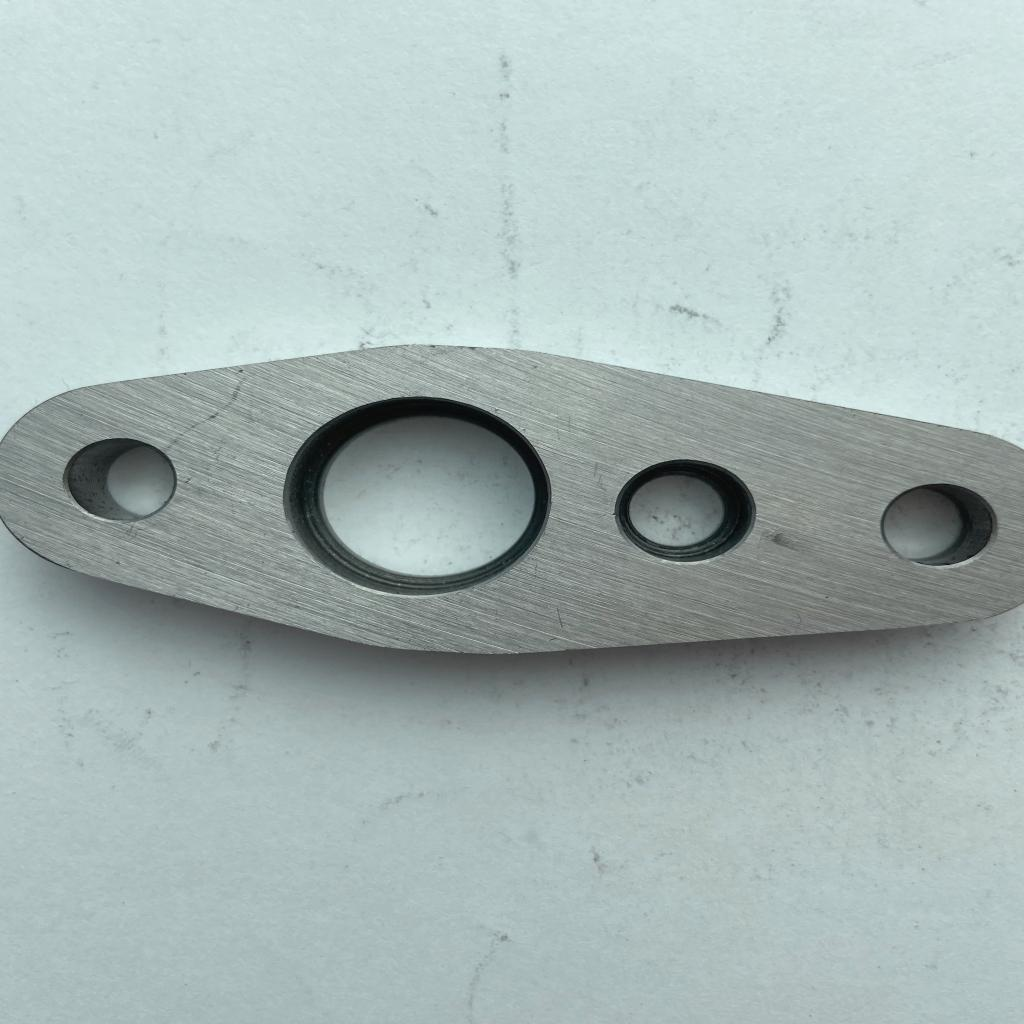lines: (162, 374, 254, 448), (760, 530, 821, 564), (588, 456, 606, 497), (553, 603, 566, 635)
